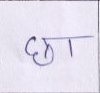aa_matra: (69, 39, 72, 57)
